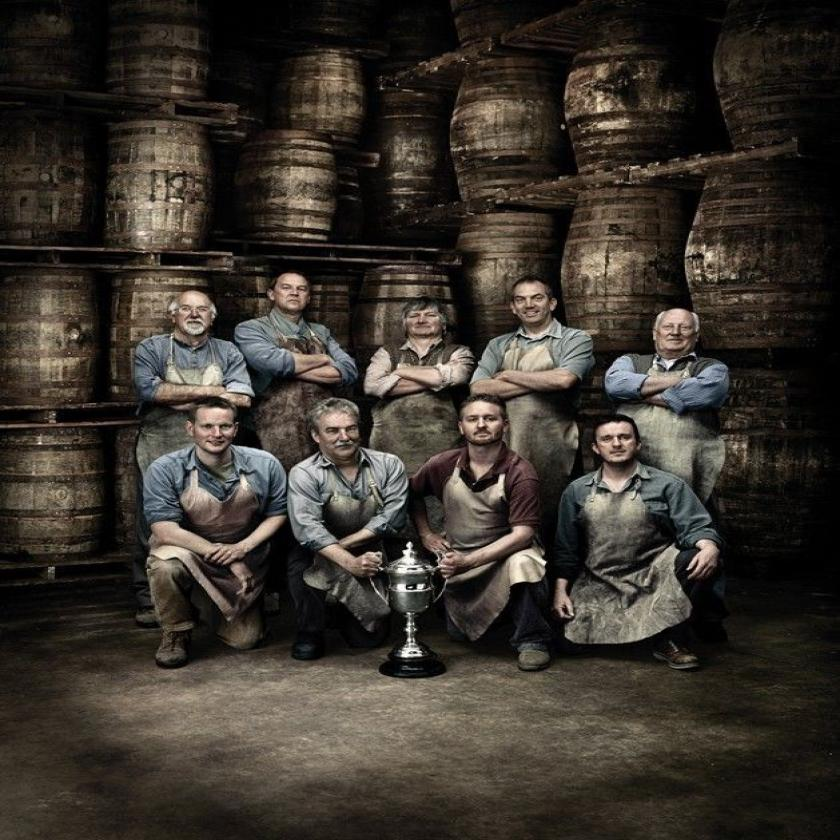Sin_casco: (426, 373, 526, 463), (303, 387, 379, 469), (391, 283, 461, 361), (498, 262, 561, 338), (642, 300, 724, 358), (185, 390, 254, 457), (158, 271, 220, 342), (590, 404, 642, 474), (258, 265, 321, 317)
